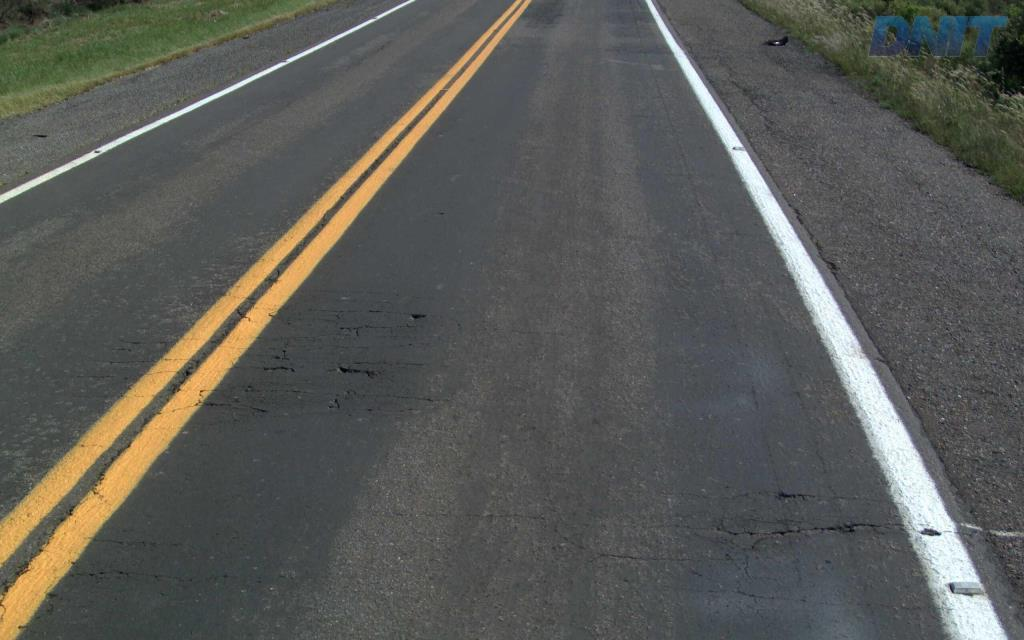crack: (710, 514, 806, 552)
